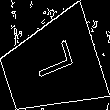L_W: (26, 44, 77, 89)
